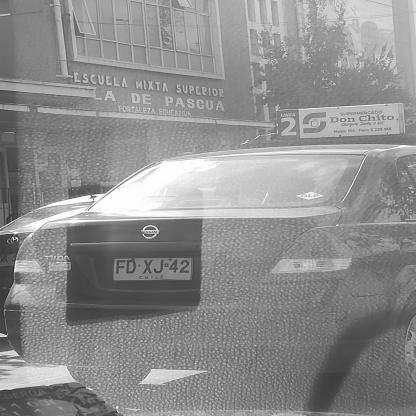Patente: (109, 254, 197, 284)
